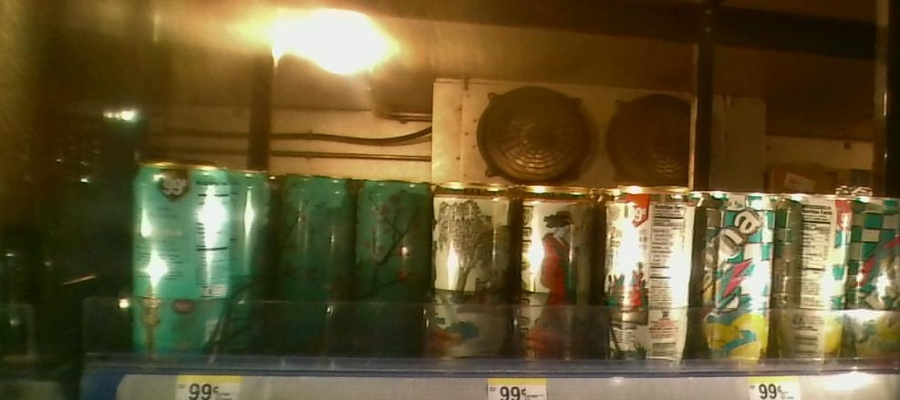bottle: (127, 152, 232, 370), (514, 175, 598, 388), (693, 172, 779, 378), (604, 174, 688, 378), (275, 161, 353, 377), (432, 179, 512, 374), (357, 165, 429, 371), (778, 179, 849, 379), (850, 181, 900, 378)
